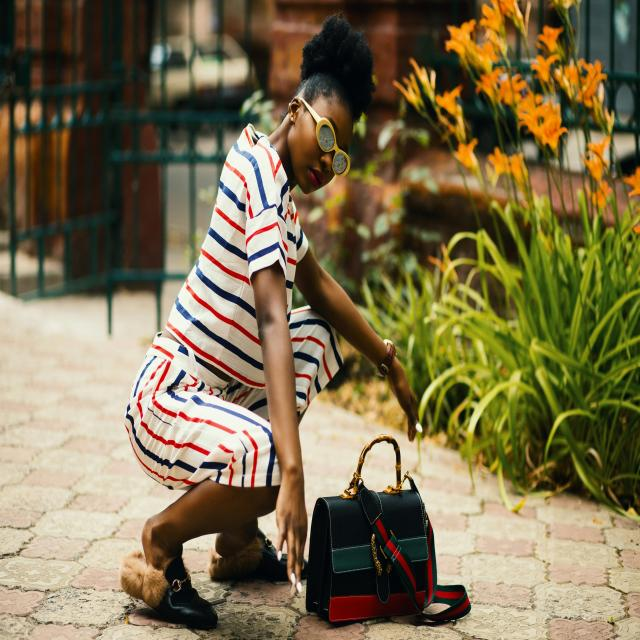sit: (117, 59, 365, 624)
